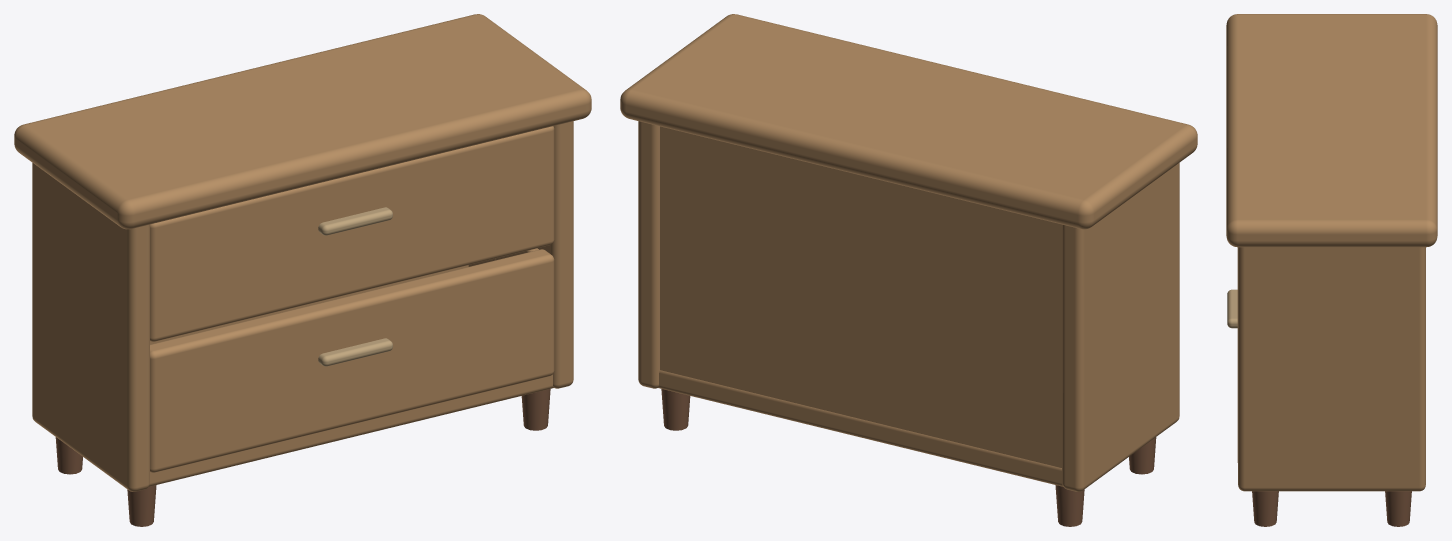
File: sidetable.glb
The picture shows the model from 3 angles, left to right: view 1: azimuth 30°, elevation 25°; view 2: azimuth 150°, elevation 25°; view 3: azimuth 270°, elevation 25°; orthographic projection. The views are drawn at different scales.
Parts seen in each view (by area): view 1: solid-rounded-worktop, drawer-0-front, drawer-1-front, joined-cabinet-side--1, joined-cabinet-base, joined-cabinet-side-1, drawer-1-pull, drawer-0-pull, cabinet-foot-1-1, cabinet-foot--1-1, joined-cabinet-back, cabinet-foot--1--1; view 2: joined-cabinet-back, solid-rounded-worktop, joined-cabinet-side--1, joined-cabinet-base, joined-cabinet-side-1, cabinet-foot-1--1, cabinet-foot--1--1, cabinet-foot--1-1; view 3: solid-rounded-worktop, joined-cabinet-side-1, cabinet-foot-1--1, cabinet-foot-1-1, drawer-0-pull.
Part boxes in pixels (x1,y1,x2,y2): solid-rounded-worktop: [14, 14, 591, 229]; drawer-0-front: [150, 249, 554, 472]; drawer-1-front: [150, 126, 554, 341]; joined-cabinet-side--1: [32, 163, 149, 491]; joined-cabinet-base: [148, 374, 553, 486]; joined-cabinet-side-1: [468, 121, 573, 388]; drawer-1-pull: [318, 207, 392, 235]; drawer-0-pull: [318, 338, 392, 366]; cabinet-foot-1-1: [521, 389, 550, 430]; cabinet-foot--1-1: [127, 485, 156, 526]; joined-cabinet-back: [150, 265, 468, 344]; cabinet-foot--1--1: [55, 437, 82, 474]; joined-cabinet-back: [660, 126, 1061, 467]; solid-rounded-worktop: [620, 14, 1197, 229]; joined-cabinet-side--1: [1062, 163, 1179, 491]; joined-cabinet-base: [658, 370, 1063, 486]; joined-cabinet-side-1: [638, 121, 659, 388]; cabinet-foot-1--1: [661, 389, 690, 430]; cabinet-foot--1--1: [1055, 485, 1084, 526]; cabinet-foot--1-1: [1129, 437, 1156, 474]; solid-rounded-worktop: [1226, 14, 1437, 247]; joined-cabinet-side-1: [1238, 247, 1425, 491]; cabinet-foot-1--1: [1385, 491, 1411, 526]; cabinet-foot-1-1: [1252, 491, 1278, 526]; drawer-0-pull: [1227, 289, 1237, 328].
Size of the model in its own units: 1.2 by 0.825 by 0.5.
